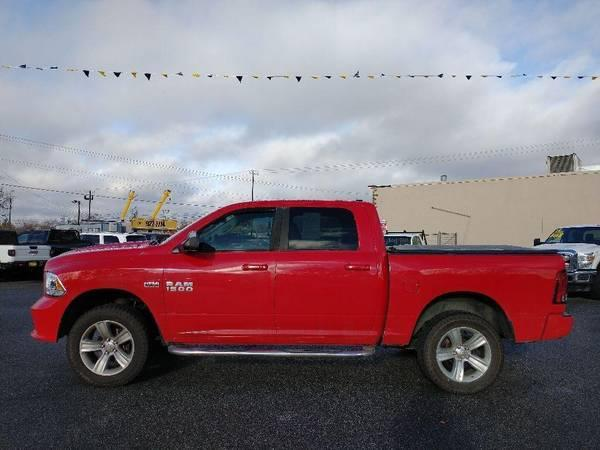Front_Bumper: (30, 295, 74, 342)
Front_Fender: (44, 256, 170, 343)
Front_Left_Door: (160, 249, 277, 348)
Front_Left_Window: (161, 202, 282, 256)
Hood: (44, 241, 162, 268)
Left_Headlight: (45, 270, 69, 297)
Left_Taillight: (549, 268, 568, 303)
Rear_Bumper: (543, 311, 576, 342)
Rear_Fender: (381, 249, 563, 346)
Rear_Left_Door: (275, 252, 388, 352)
Rear_Left_Window: (278, 201, 383, 253)
Wheel: (417, 306, 504, 390), (67, 307, 148, 385)
